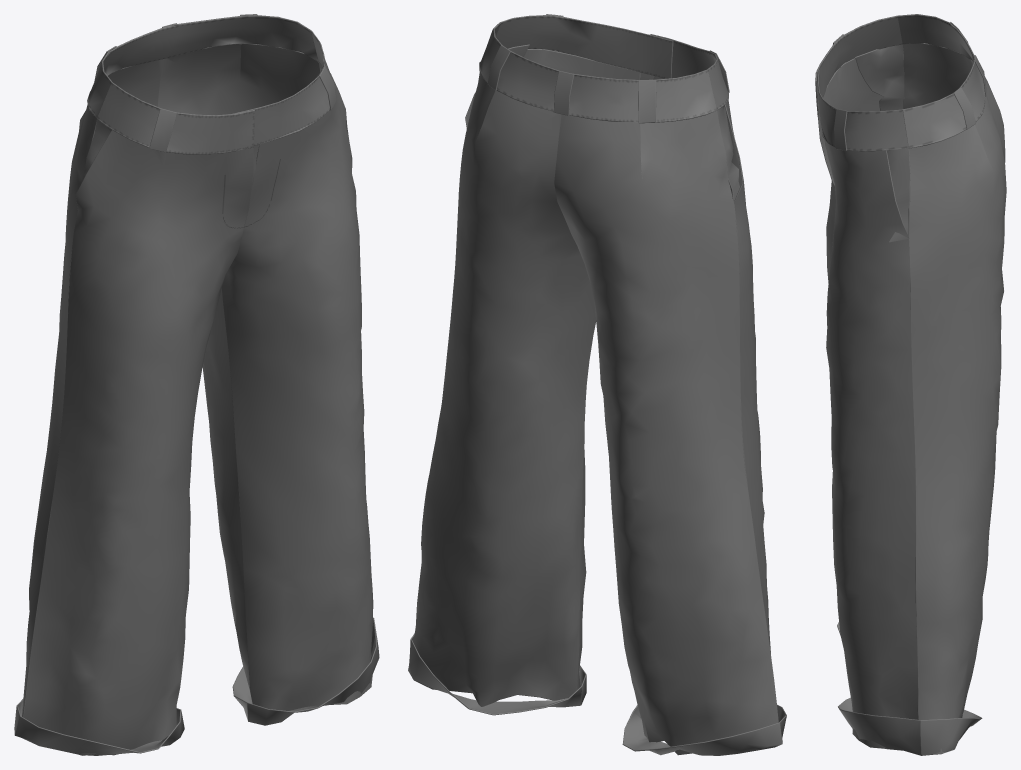
Rendered from mikkypantslowpoly.fbx.
3 renders of one model, left to right at view 1: azimuth 30°, elevation 25°; view 2: azimuth 150°, elevation 25°; view 3: azimuth 270°, elevation 25°, orthographic. The views are drawn at different scales.
Parts seen in each view (by area): view 1: PRIVAT PANT 005_1; view 2: PRIVAT PANT 005_1; view 3: PRIVAT PANT 005_1.
Boxes of the visible parts, x1=… form: PRIVAT PANT 005_1: x1=14, y1=14, x2=379, y2=755; PRIVAT PANT 005_1: x1=408, y1=14, x2=786, y2=755; PRIVAT PANT 005_1: x1=815, y1=14, x2=1006, y2=755.
Size of the model in its own units: 58.12 by 103 by 28.11.
